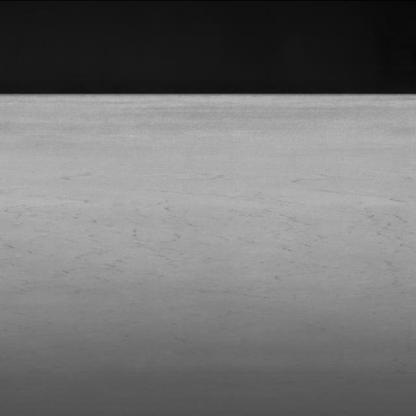silk_spot: (93, 168, 416, 278)
